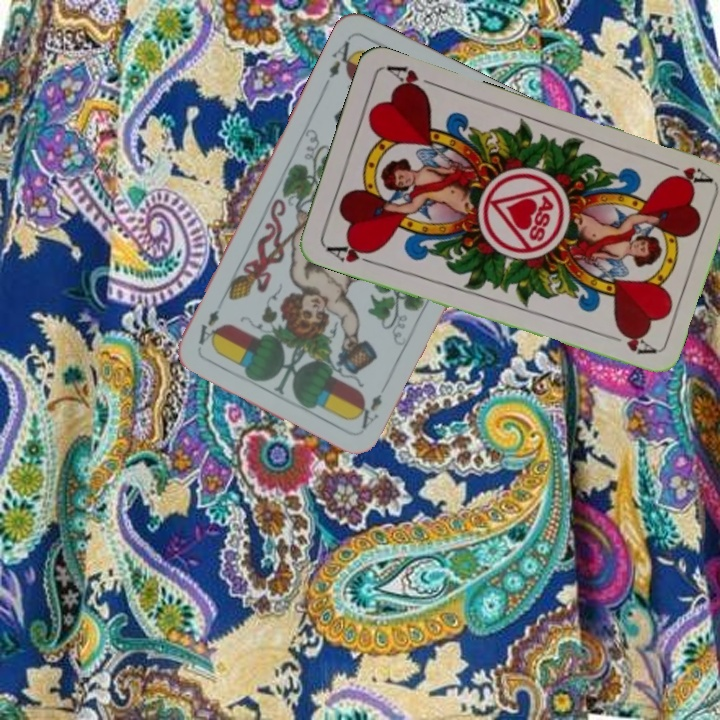EA: (320, 34, 360, 89), (354, 390, 385, 432)
HA: (657, 157, 714, 190), (322, 238, 378, 267)
